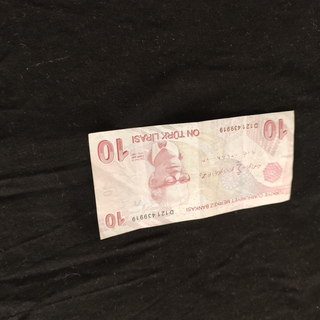10TLBack: (86, 109, 296, 240)
